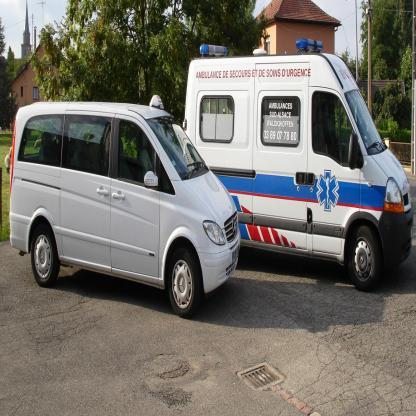Ambulance - v1 Ambulance last generate: (185, 41, 413, 282)
